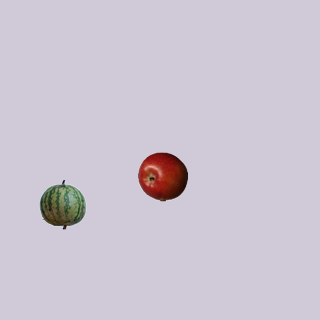Apple Braeburn: (137, 151, 187, 201)
Watermelon: (37, 179, 87, 229)
